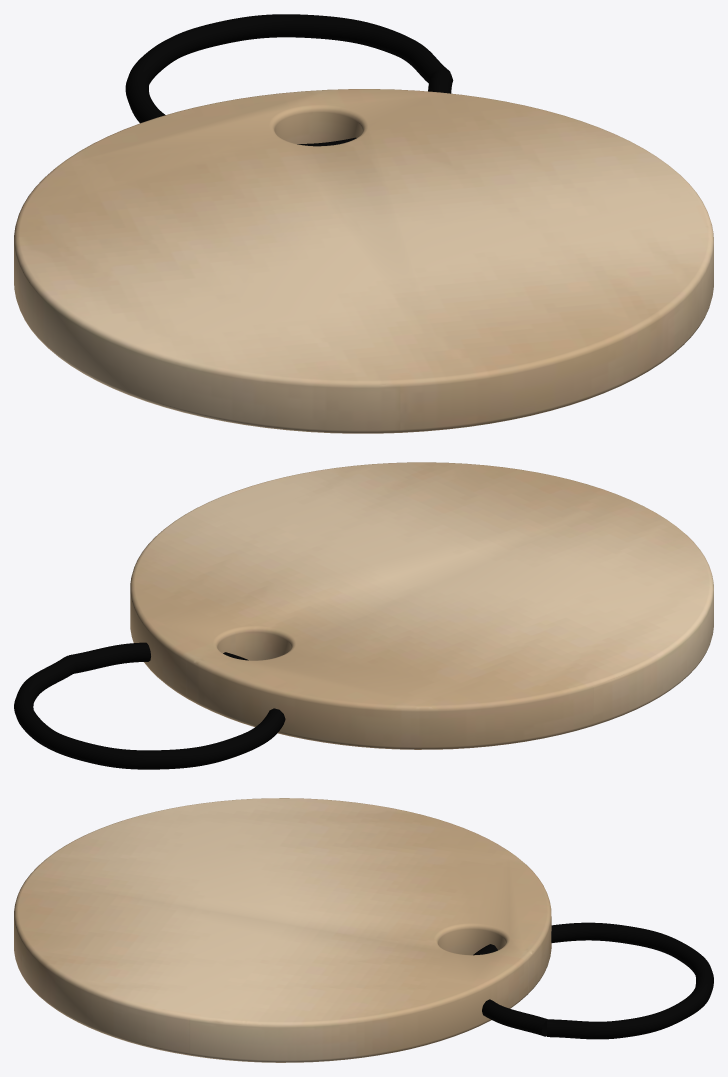
The model's file is keychain.glb.
3 views of the same model, one above another, from view 1: azimuth 30°, elevation 25°; view 2: azimuth 150°, elevation 25°; view 3: azimuth 270°, elevation 25° (orthographic). The views are drawn at different scales.
Visible parts, largest first — view 1: disc, ring2; view 2: disc, ring2; view 3: disc, ring2.
Part boxes in pixels (bbox=[...]): disc: bbox=[14, 89, 713, 433]; ring2: bbox=[125, 14, 453, 146]; disc: bbox=[130, 462, 713, 749]; ring2: bbox=[14, 642, 285, 769]; disc: bbox=[14, 798, 551, 1062]; ring2: bbox=[473, 922, 713, 1039].
Size of the model in its own units: 0.048 by 0.004 by 0.0626.
Materials: 3 (3 with a texture image).
